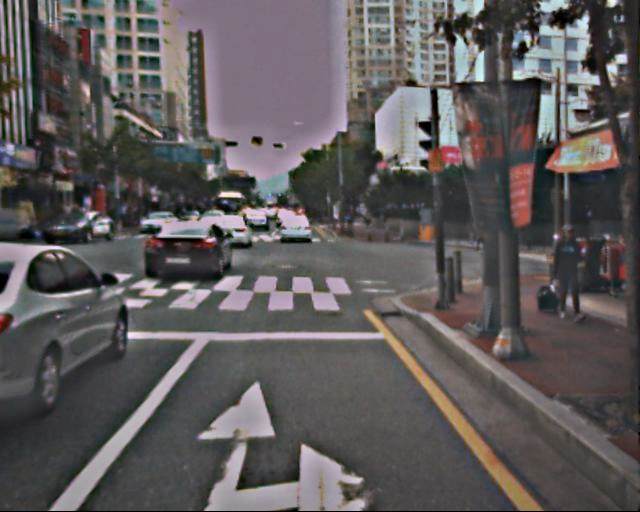person: (543, 222, 589, 325)
